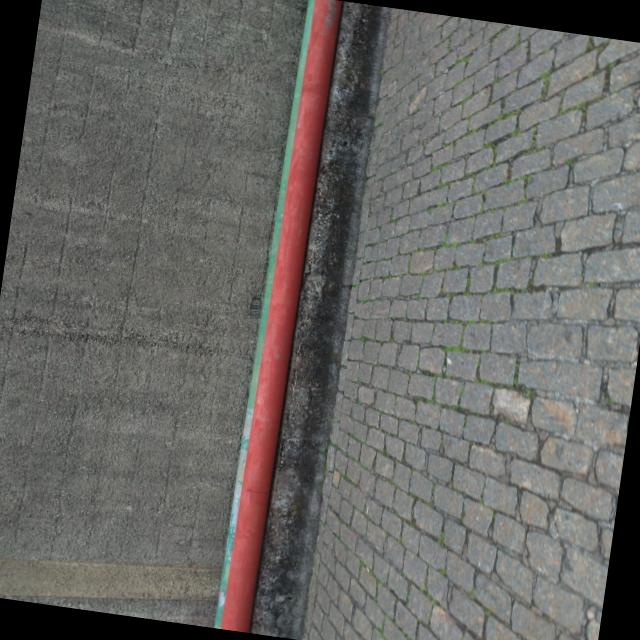gas: (220, 0, 339, 633)
